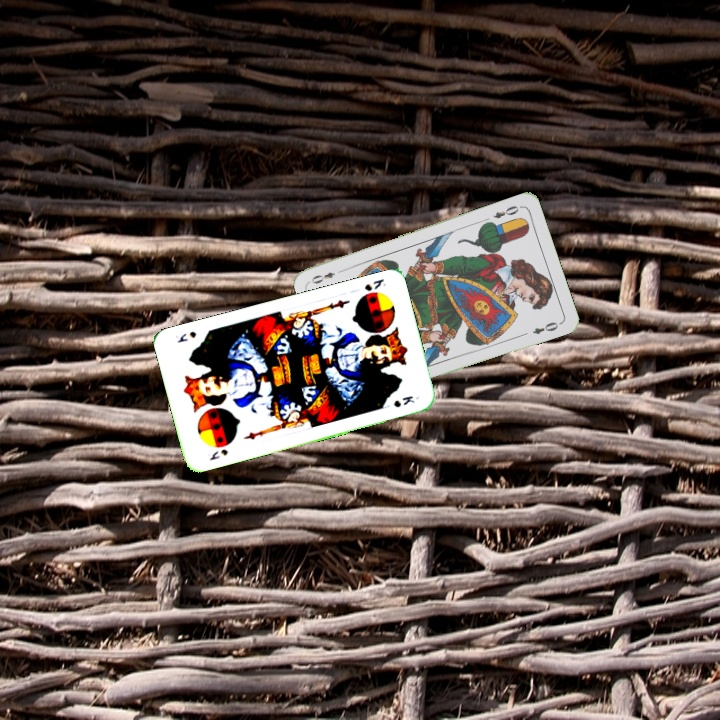EO: (489, 202, 521, 221)
SK: (360, 275, 388, 294), (206, 445, 230, 463)
